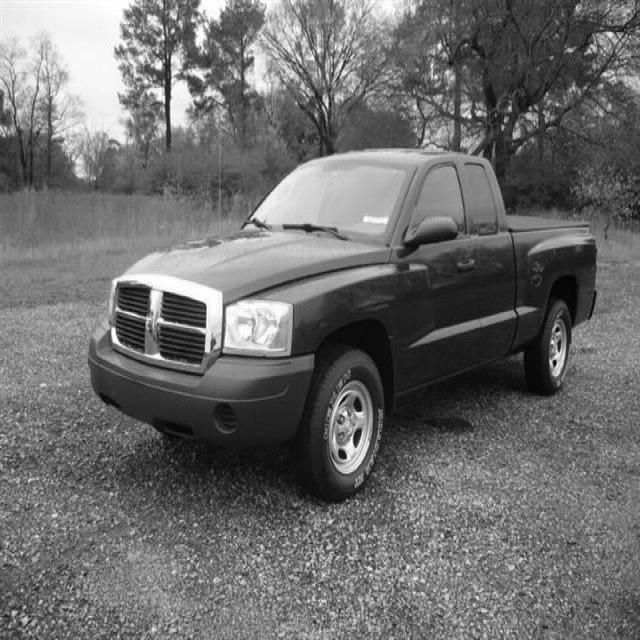car: (86, 145, 598, 503)
